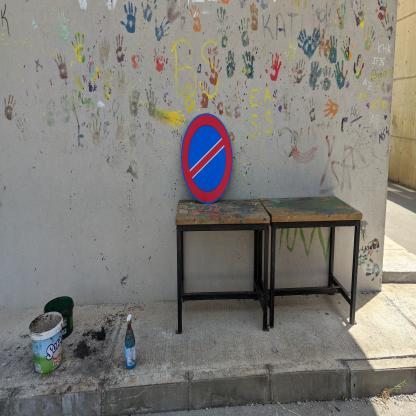No Waiting: (182, 114, 234, 206)
